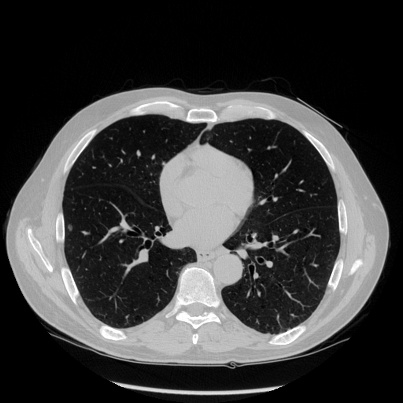PN: (67, 224, 73, 230)
